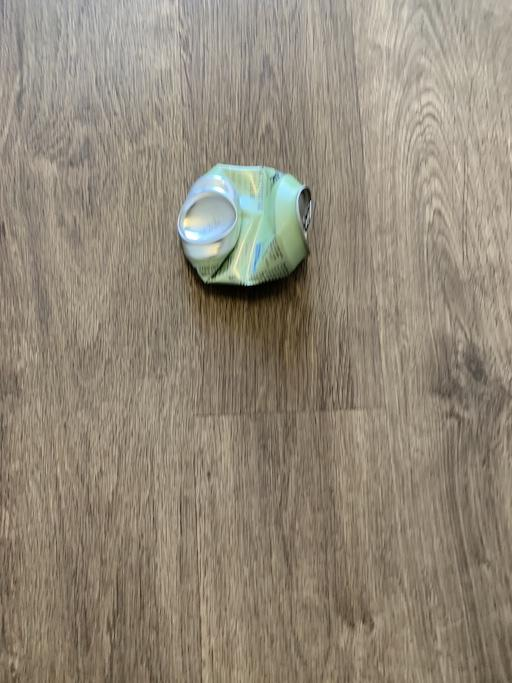Aluminum can: (166, 152, 326, 306)
